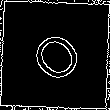O_SE: (22, 21, 88, 89)
